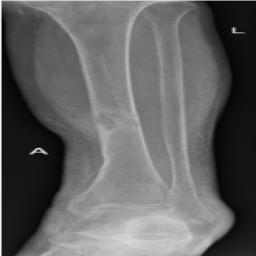cancer: (95, 106, 135, 160)
